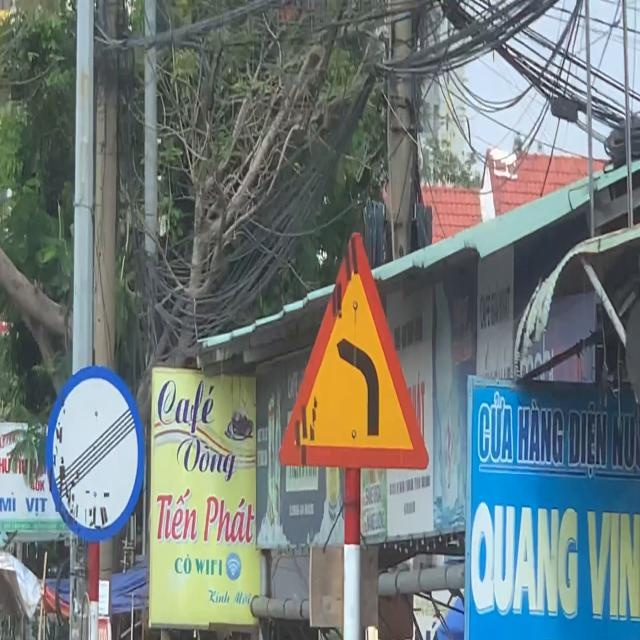bien_nguy_hiem: (273, 218, 437, 486)
